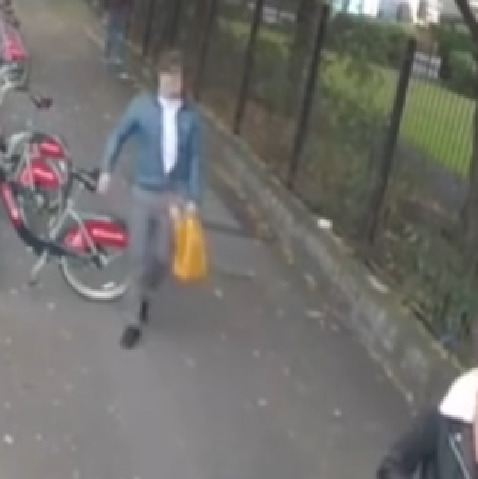person: (96, 51, 210, 349)
